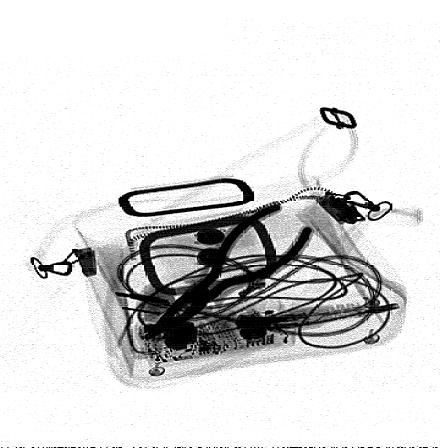Pliers: (139, 197, 318, 343)
